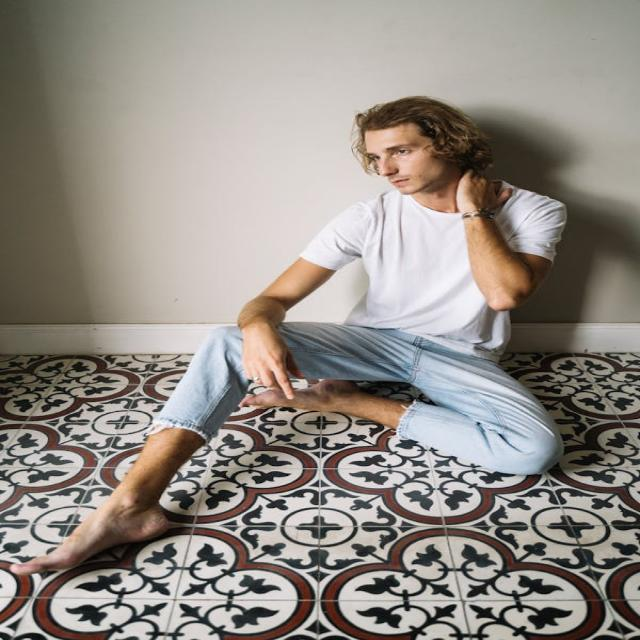Real human 2: (75, 94, 589, 551)
